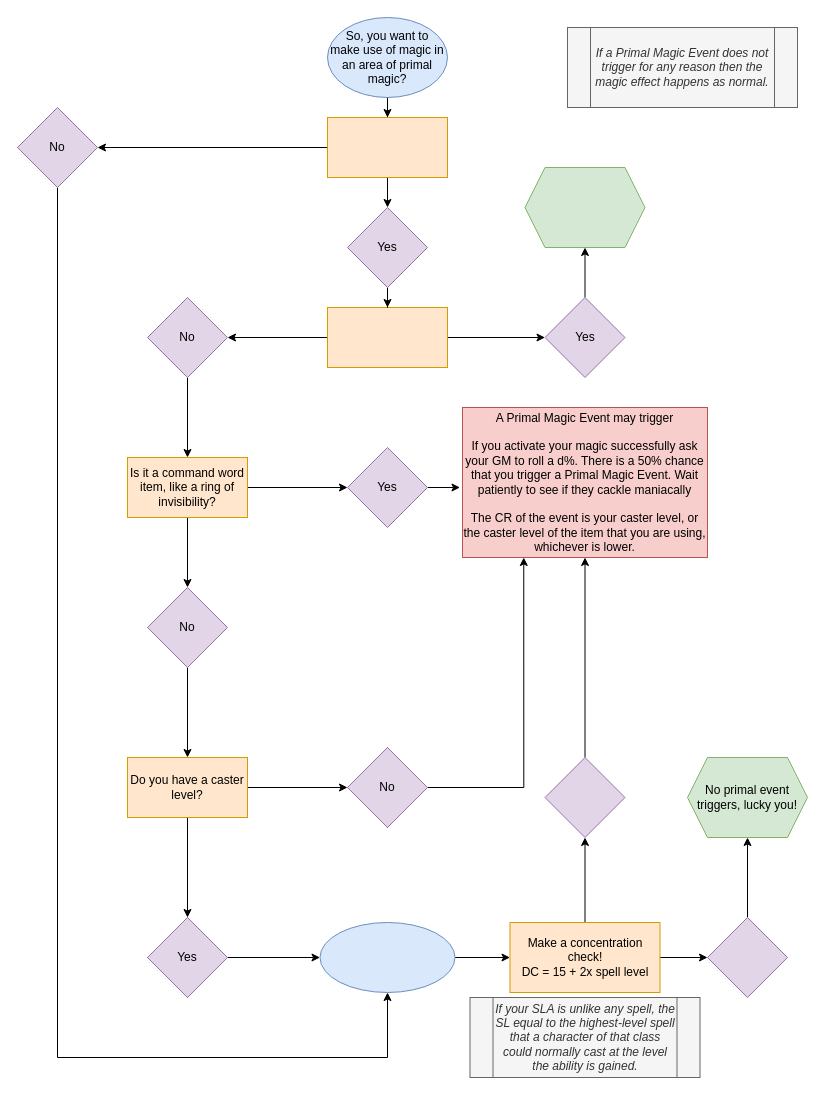
The diagram is 825 pixels wide and 1095 high, and some of its shapes have lost their labels. The box of each missing label's shape, as (x1, y1, x2, y2) in pixels:
Failure!: (544, 756, 625, 838)
Great! You can focus your magic to avoid a primal event: (319, 922, 455, 992)
Is it a 'use activated' item like a potion, or continuous like a belt of dex?: (326, 306, 448, 368)
Is the source of the magic an item?: (326, 116, 448, 178)
No chance of primal magic shenanigans!: (524, 166, 645, 248)
Success!: (706, 916, 788, 998)
